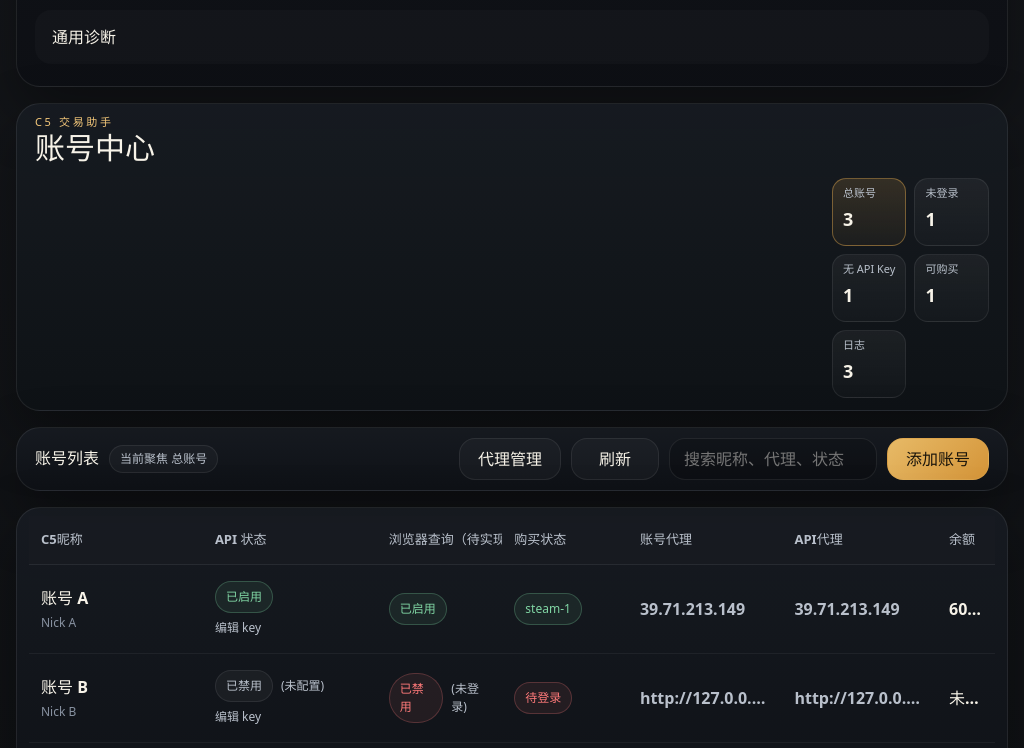
Test case: account center page › renders shell navigation, overview cards, account table and log entry point
The image size is (1024, 748).
(page scrolled)
Expected: the text "C5 交易助手" is shown, [35, 114, 114, 129]
Expected: the heading "账号中心" is shown, [35, 131, 155, 164]
What coordinates should you click on to do the following:
click the button "日志 3"
I would click on:
 (869, 364)
Its box is [832, 330, 906, 398].
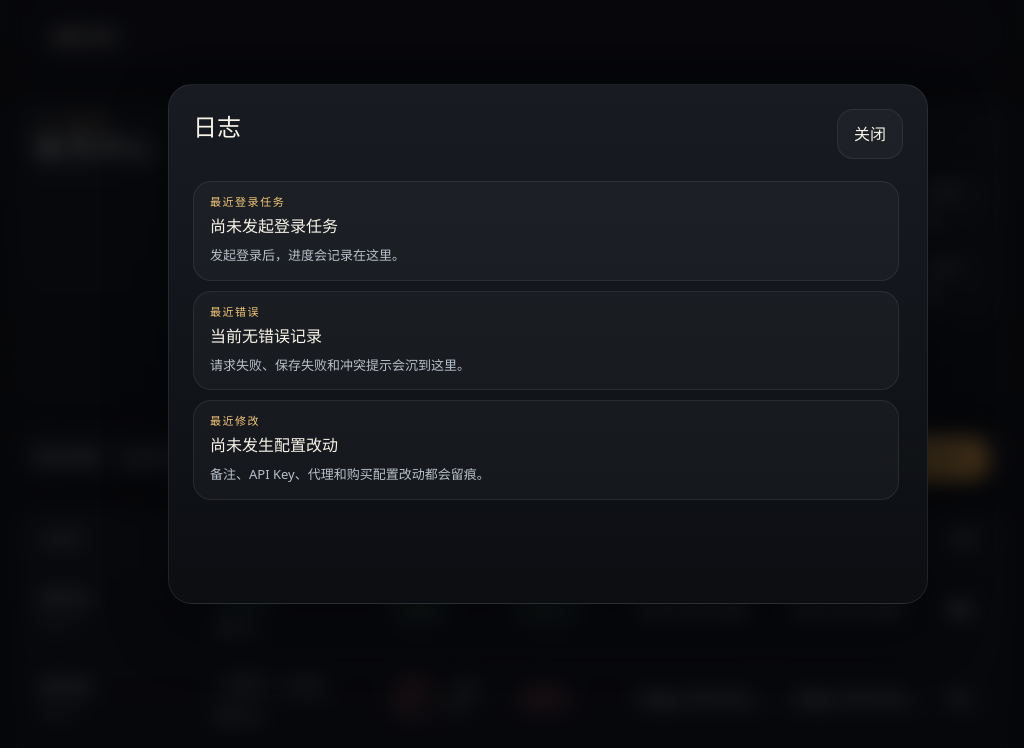
Expected: the text "尚未发起登录任务" is shown, [210, 215, 338, 237]
Expected: the text "当前无错误记录" is shown, [210, 325, 322, 347]
Expected: the text "尚未发生配置改动" is shown, [210, 434, 338, 456]
